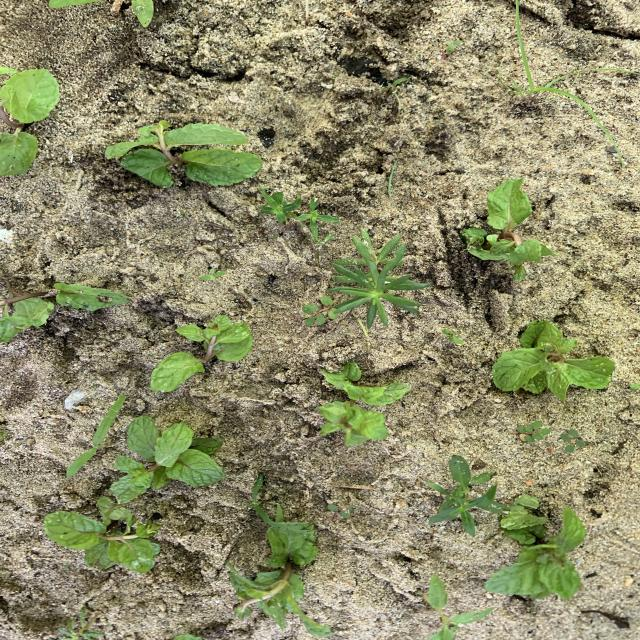crop: (230, 523, 331, 637), (485, 497, 585, 598), (106, 121, 262, 185), (493, 321, 614, 399), (463, 179, 558, 278), (111, 417, 224, 499), (44, 499, 160, 571), (1, 282, 129, 343), (151, 316, 252, 391), (319, 362, 410, 445), (1, 67, 59, 174)
weed: (511, 0, 638, 166), (332, 232, 427, 332), (427, 455, 497, 535), (66, 395, 123, 476), (427, 576, 493, 639), (294, 199, 341, 243), (252, 474, 284, 528), (260, 188, 301, 223), (302, 296, 339, 326), (59, 614, 103, 639), (518, 420, 550, 442), (381, 76, 413, 98), (560, 429, 585, 451), (328, 504, 354, 518), (442, 329, 463, 343), (200, 269, 223, 279), (445, 40, 461, 53)
